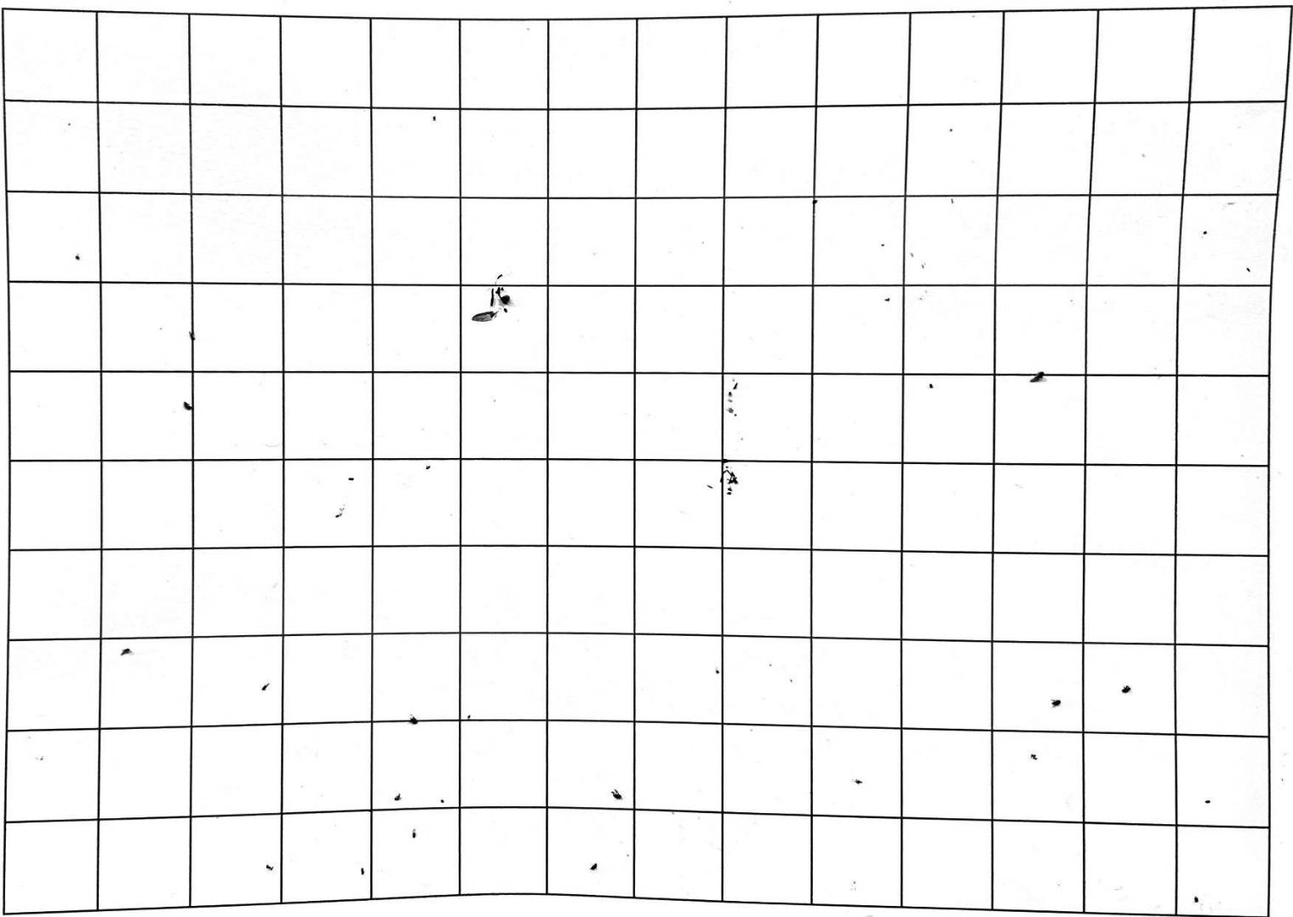test: (483, 283, 515, 314), (1029, 373, 1047, 385), (181, 399, 194, 414), (609, 788, 624, 801), (118, 646, 133, 658), (259, 680, 273, 692), (1049, 696, 1062, 708), (186, 330, 198, 342), (392, 792, 403, 803), (407, 716, 419, 726), (1120, 684, 1133, 693), (1029, 751, 1038, 763), (410, 828, 419, 839), (264, 863, 275, 872), (726, 486, 735, 497), (853, 777, 865, 785), (73, 253, 82, 263), (358, 866, 367, 876), (590, 863, 600, 872), (1193, 894, 1201, 905), (424, 464, 434, 472), (926, 382, 936, 390), (732, 381, 740, 391), (431, 115, 440, 123), (884, 297, 893, 305), (347, 475, 357, 482), (439, 798, 447, 806), (1204, 798, 1212, 806), (465, 713, 472, 721), (1244, 266, 1251, 274), (1203, 230, 1209, 236)
